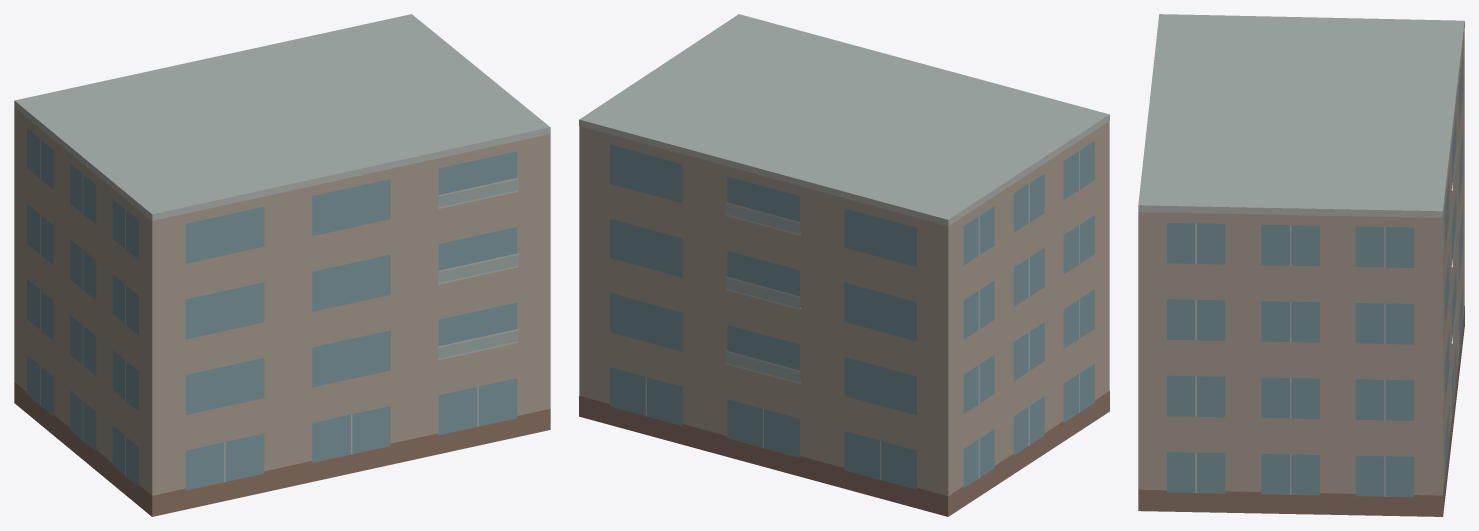
File: survey-upis-32598009.glb
3 renders of one model, left to right at view 1: azimuth 30°, elevation 25°; view 2: azimuth 150°, elevation 25°; view 3: azimuth 270°, elevation 25°, orthographic. The views are drawn at different scales.
Visible parts, largest first — view 1: survey-upis-32598009.tmp; view 2: survey-upis-32598009.tmp; view 3: survey-upis-32598009.tmp.
Part boxes in pixels (x1=…): survey-upis-32598009.tmp: x1=14, y1=14, x2=550, y2=516; survey-upis-32598009.tmp: x1=579, y1=14, x2=1109, y2=516; survey-upis-32598009.tmp: x1=1138, y1=14, x2=1464, y2=516.
Size of the model in its own units: 15.37 by 11.1 by 10.76.
